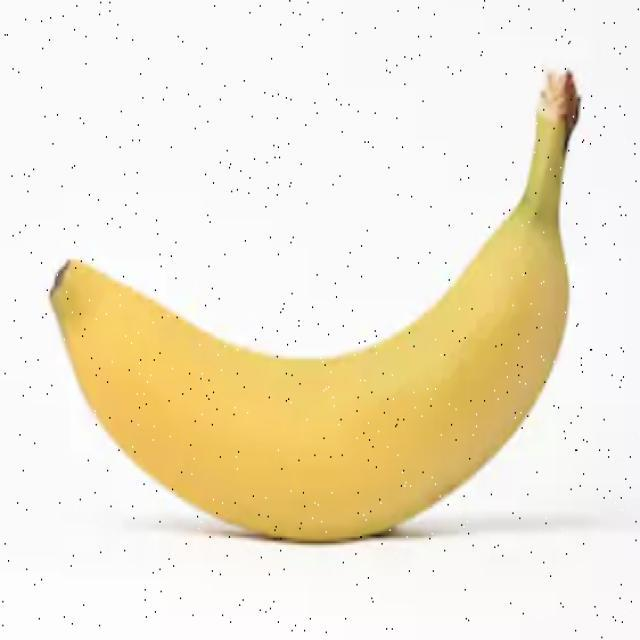Banana: (47, 67, 581, 542)
